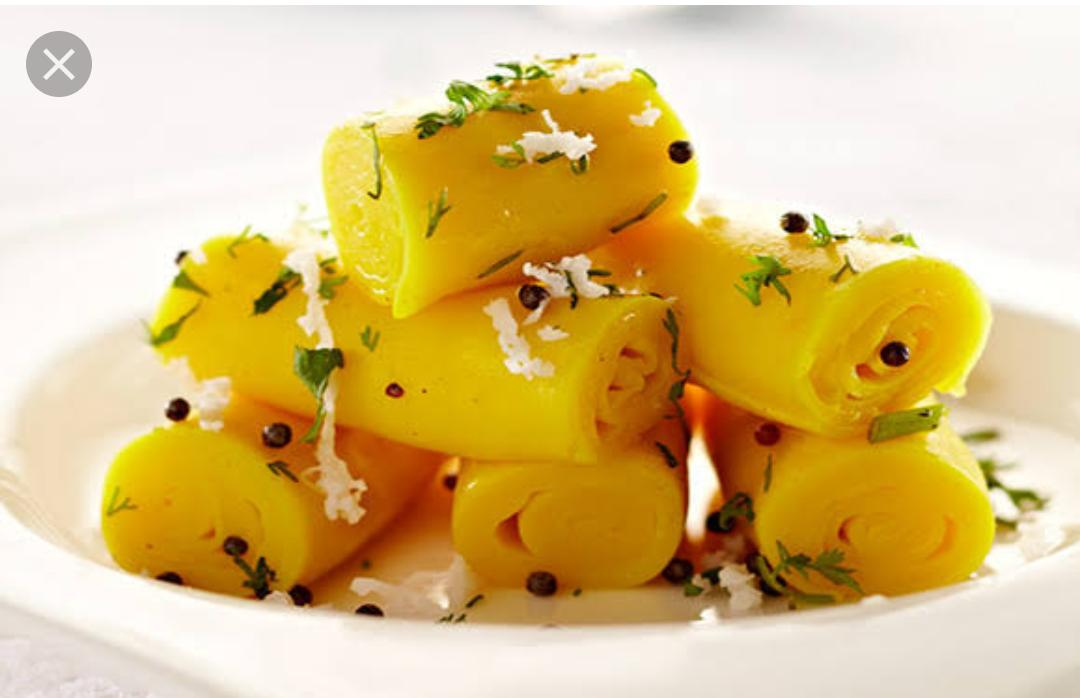khandvi: (160, 88, 1040, 590)
